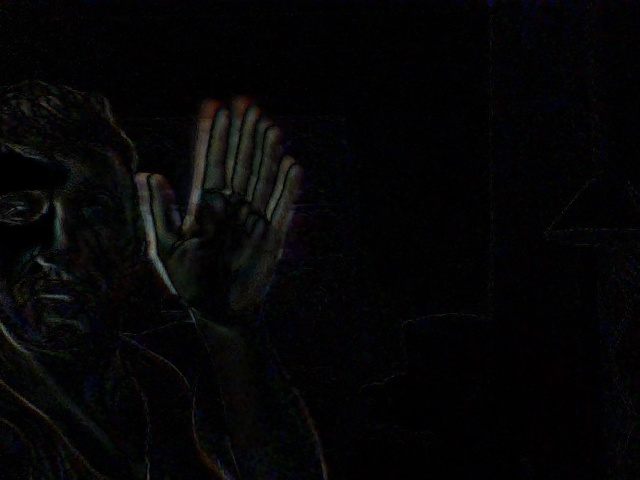arm_fo: (138, 80, 319, 480)
